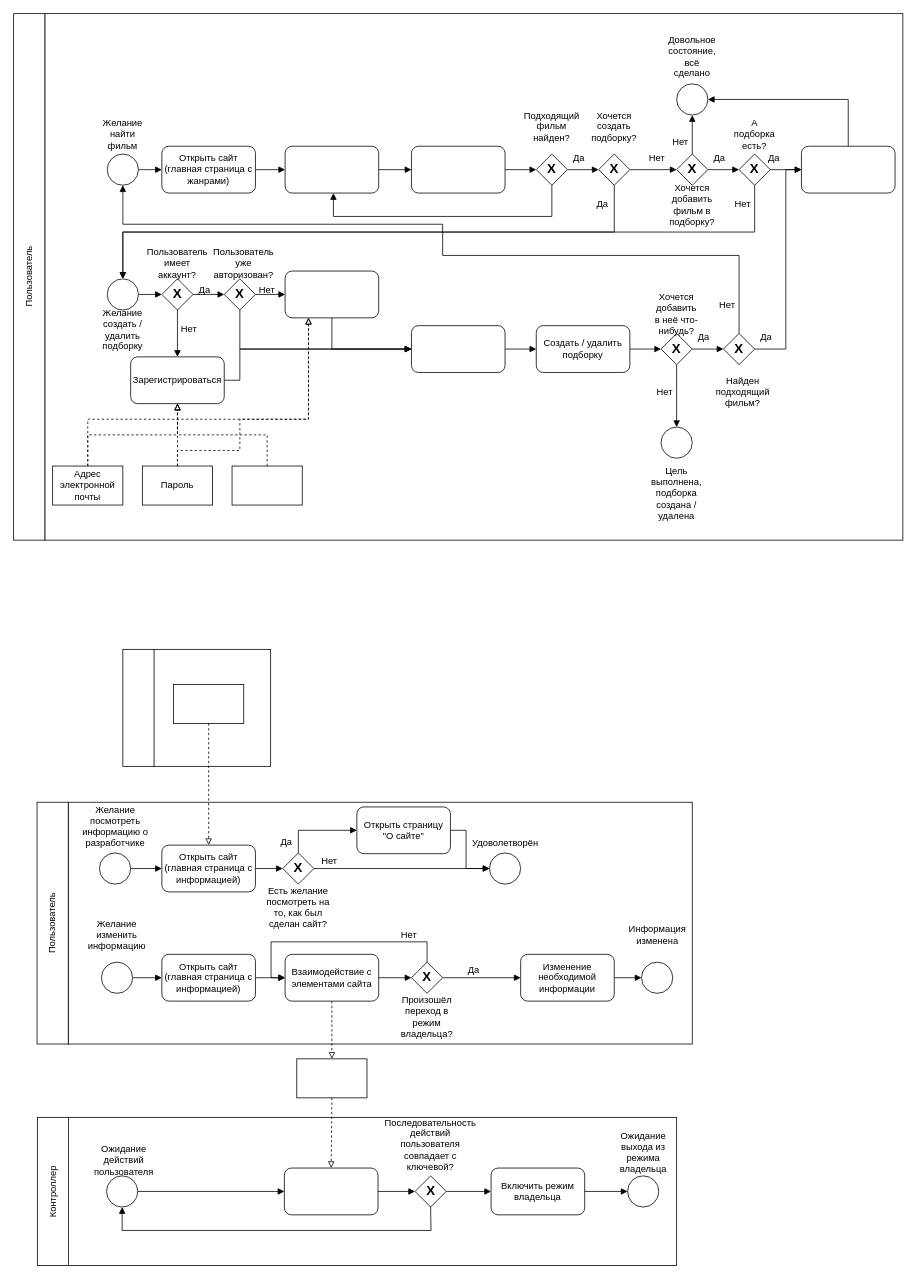
The diagram is 916 pixels wide and 1279 high, and some of its shapes have lost their labels. Each missing label, with the centre of its shape:
Авторизоваться: pixel 331 294
Владелец: pixel 138 707
Выбрать нужный жанр: pixel 331 169
Данные владельца: pixel 208 703
Действия пользователя: pixel 331 1078
Добавить фильм в подборку: pixel 848 169
Имя: pixel 266 485
Обновить действия пользователя: pixel 331 1191
Открыть страницу фильма: pixel 458 169
Перейти в профиль: pixel 458 348
